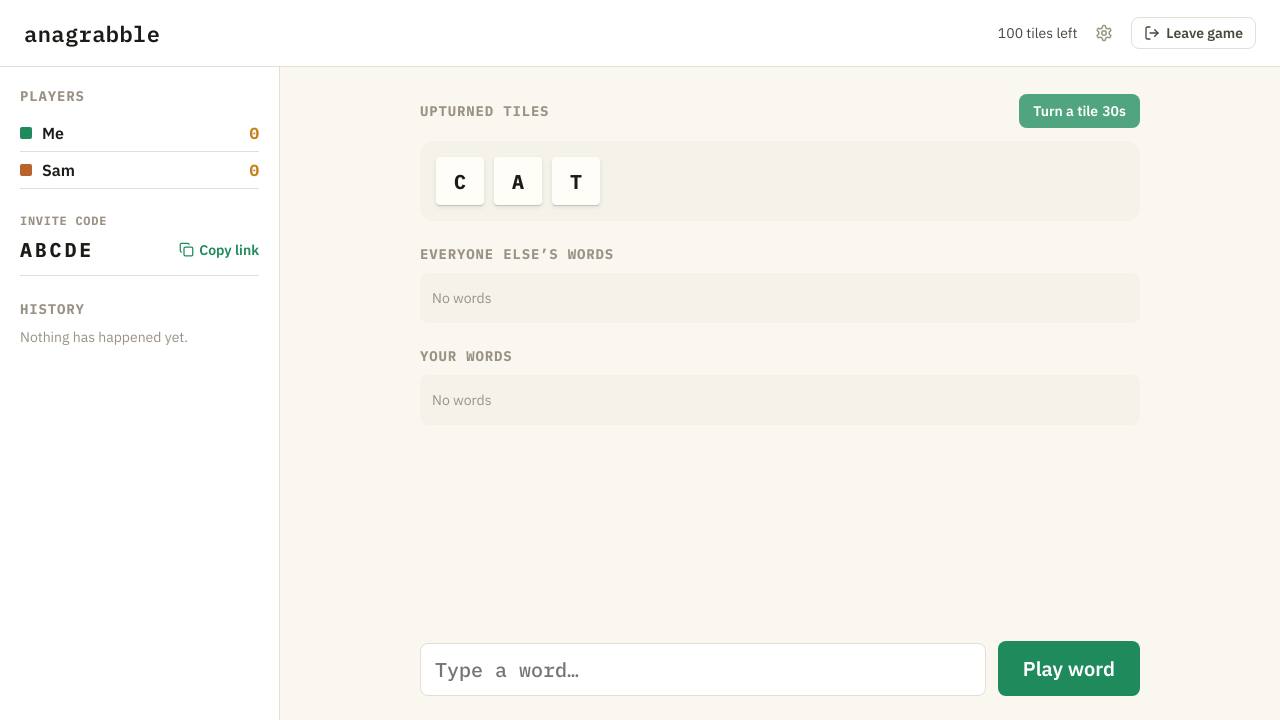
Test: GameBoard › settings modal (desktop) › opens via the settings cog with your settings then game settings, and closes via the close button
The image size is (1280, 720).
expect the dialog "Settings" is not shown: met
Click the button named "Settings" at (1104, 33), box [1083,12,1125,54]
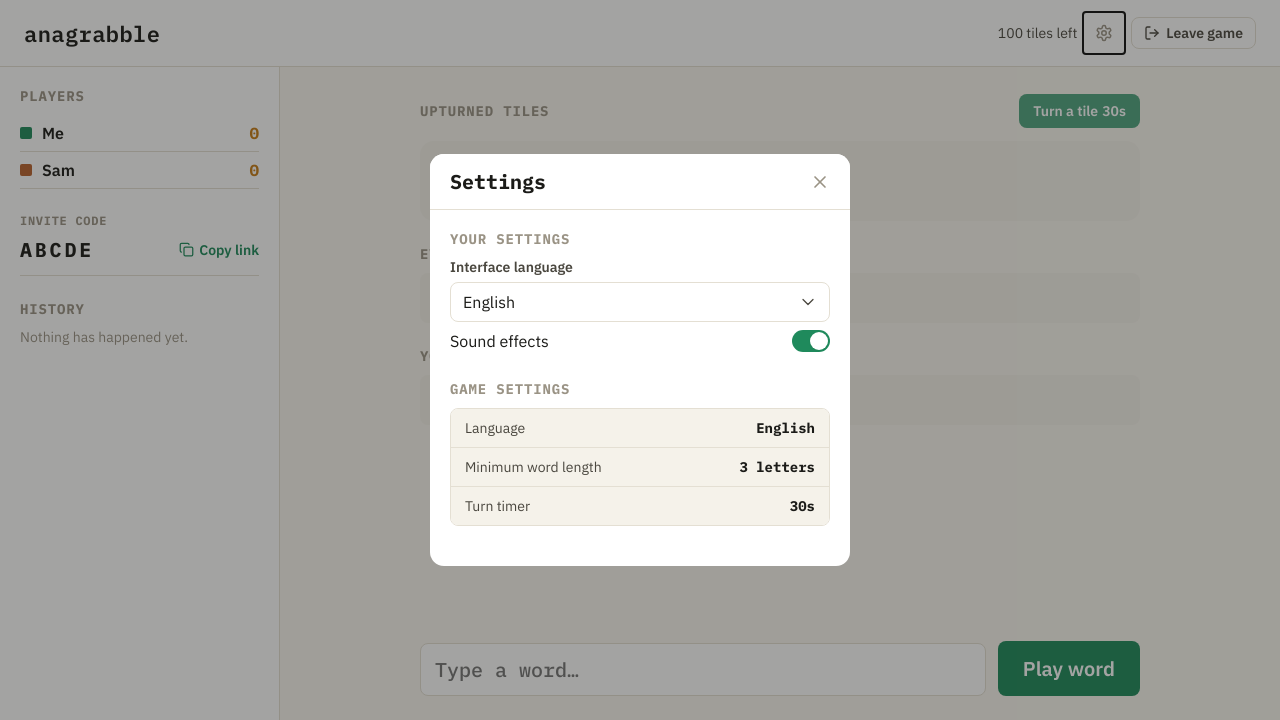
expect the text "Your settings" is shown: met, box [450,230,570,248]
expect the text "Game settings" is shown: met, box [450,380,570,398]
Click the button named "Close" at (820, 182), box [798,160,842,204]
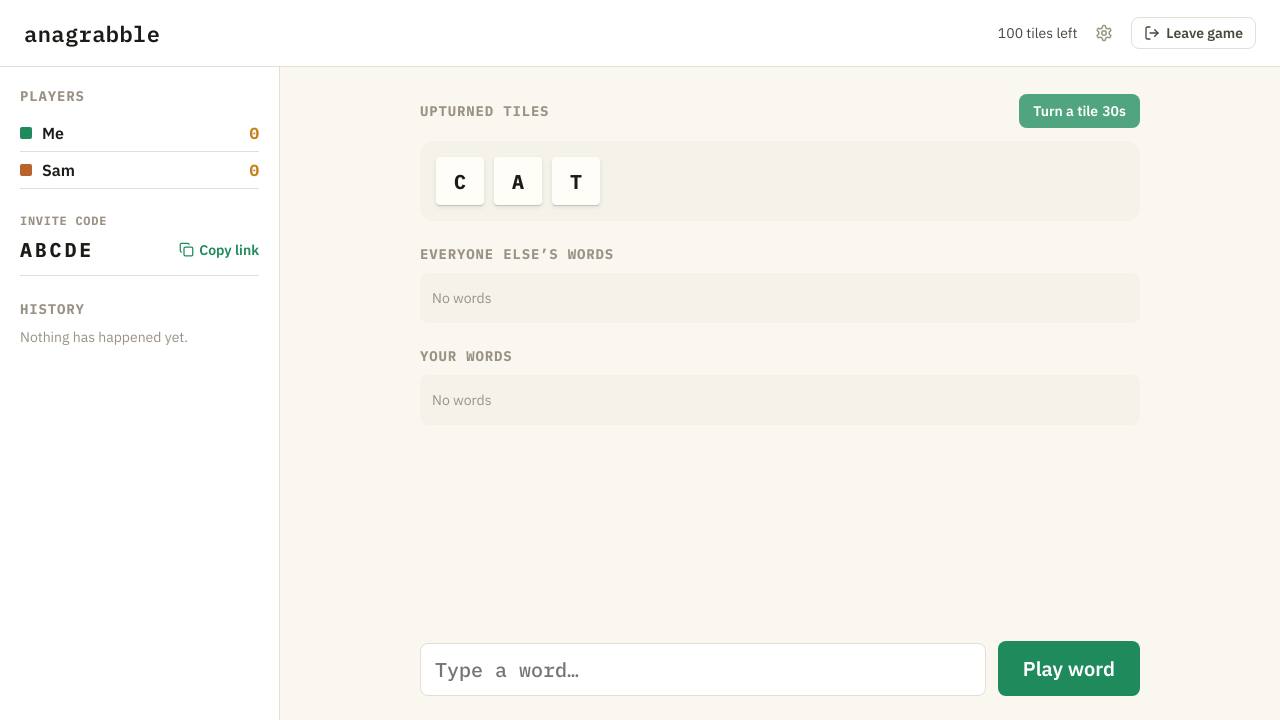
expect the text "Settings" is gone: met
